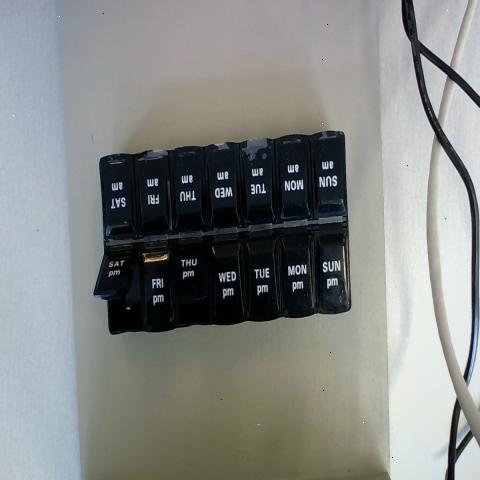FRI-am: (139, 150, 171, 229)
FRI-pm: (141, 252, 173, 326)
MON-am: (280, 139, 310, 219)
MON-pm: (280, 233, 313, 314)
Open: (94, 256, 141, 333), (175, 257, 211, 324)
PillBox: (82, 99, 370, 360)
SAT-am: (101, 152, 138, 235)
SUN-am: (314, 134, 346, 216)
SUN-pm: (314, 222, 346, 309)
THU-am: (172, 150, 207, 230)
TUE-am: (243, 140, 276, 223)
TUE-pm: (246, 234, 275, 316)
WED-am: (208, 144, 242, 225)
WED-pm: (212, 237, 244, 317)
